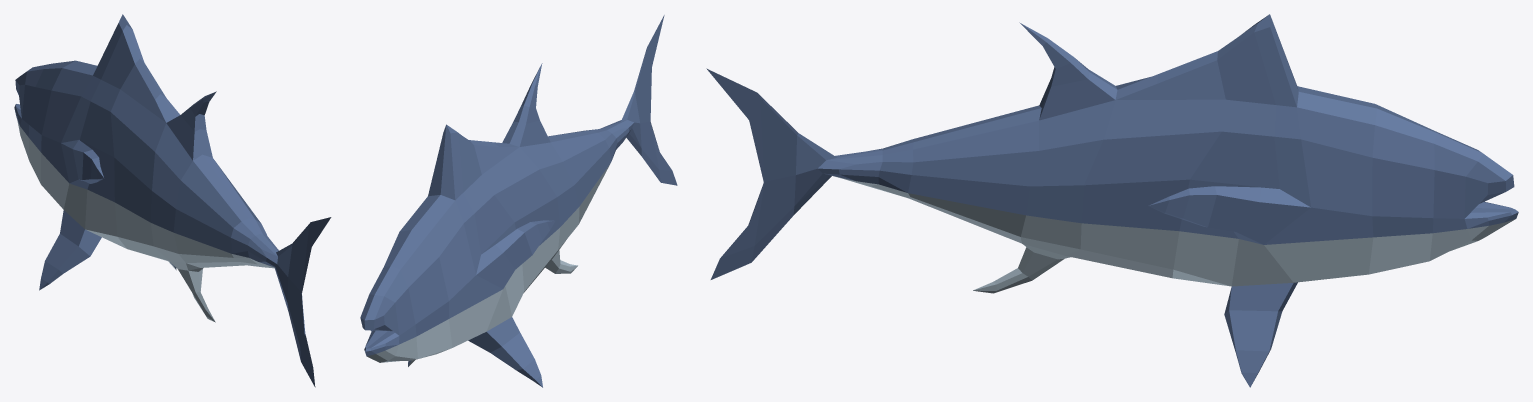
File: Tuna 1.fbx
3 views of the same model, side by side, from view 1: azimuth 30°, elevation 25°; view 2: azimuth 150°, elevation 25°; view 3: azimuth 270°, elevation 25° (orthographic). The views are drawn at different scales.
Visible parts, largest first — view 1: Tuna; view 2: Tuna; view 3: Tuna.
Part boxes in pixels (box(x1,y1,x2,y2)): Tuna: box(14, 14, 331, 387); Tuna: box(360, 15, 677, 387); Tuna: box(706, 14, 1518, 387).
Bounding box in the file's own units: 110 × 202 × 432.
